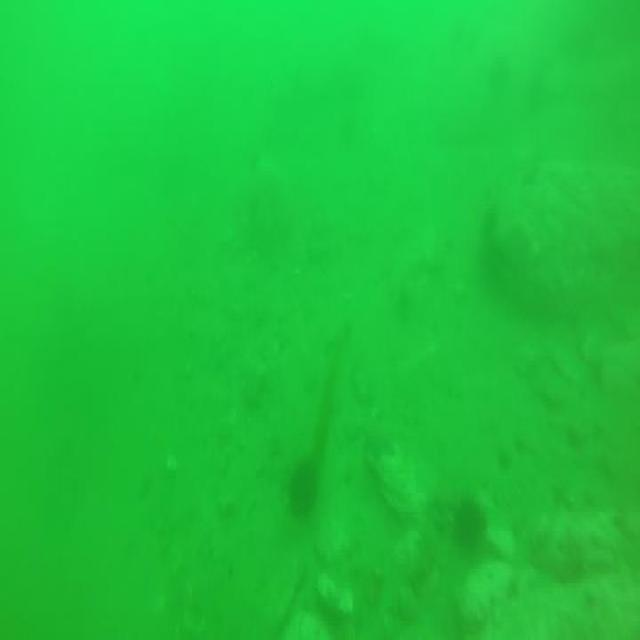echinus: (454, 495, 491, 545), (292, 460, 320, 518)
